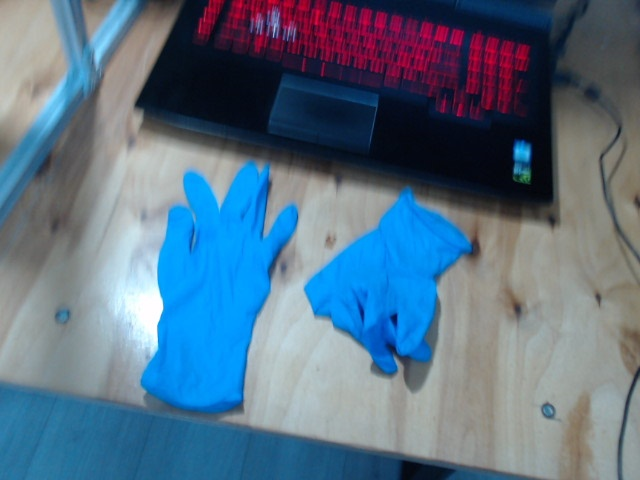medical_glove: (141, 162, 298, 413), (305, 189, 475, 374)
